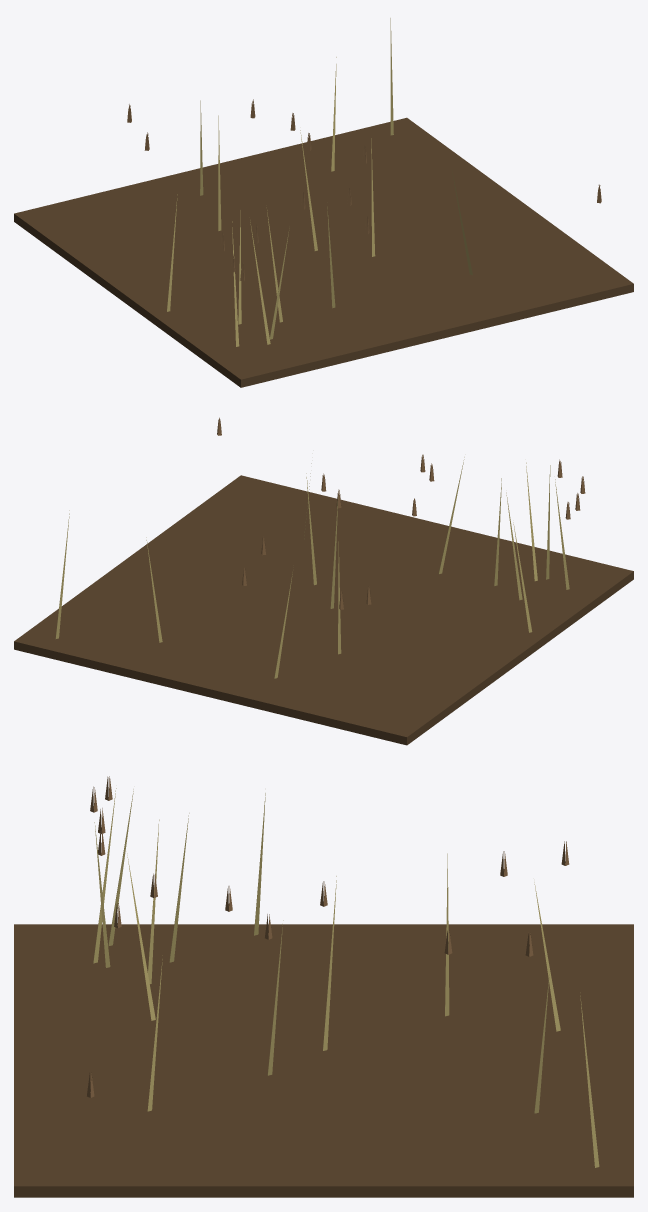
The model's file is br_reed_field_lod1.glb.
3 views of the same model, one above another, from view 1: azimuth 30°, elevation 25°; view 2: azimuth 150°, elevation 25°; view 3: azimuth 270°, elevation 25° (orthographic). The views are drawn at different scales.
Visible parts, largest first — view 1: br_reed_field_lod1; view 2: br_reed_field_lod1; view 3: br_reed_field_lod1.
Boxes of the visible parts, x1,y1,x2,y2 form: br_reed_field_lod1: (14,18,633,387); br_reed_field_lod1: (14,417,633,745); br_reed_field_lod1: (14,776,633,1197).
Size of the model in its own units: 8 by 2.63 by 8.
